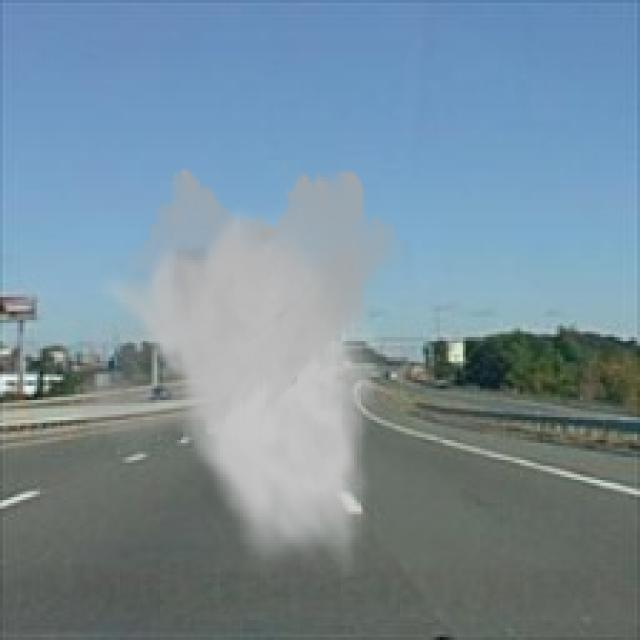Smoke: (66, 157, 408, 577)
